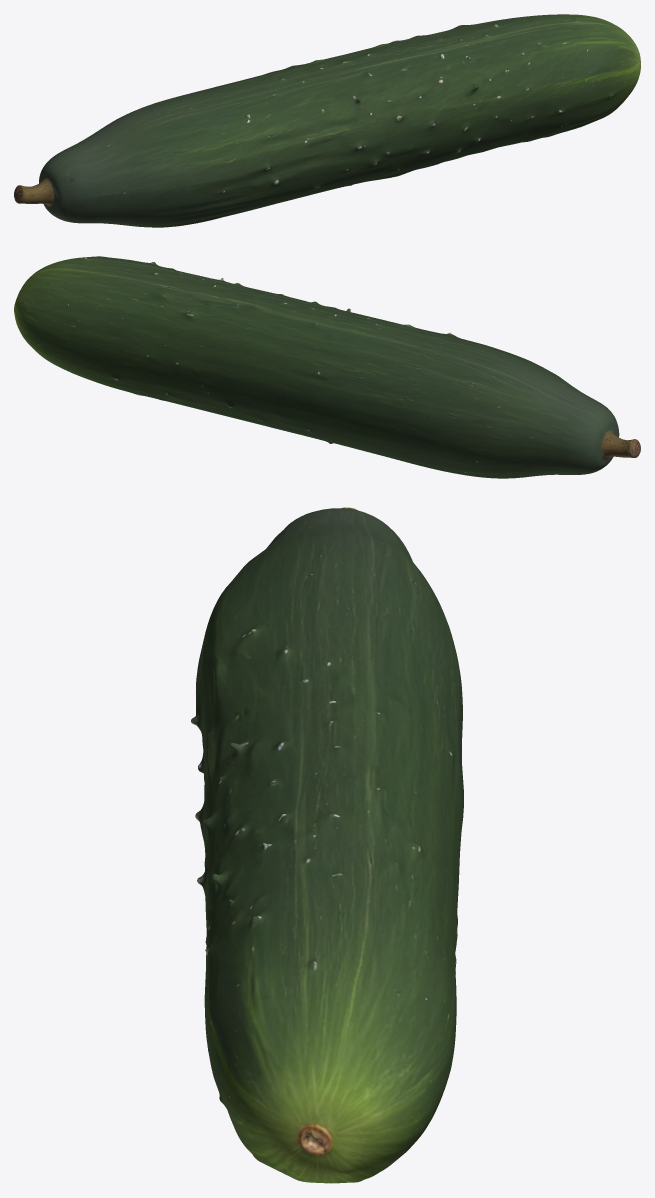
The model's file is zucchini.glb.
3 views of the same model, one above another, from view 1: azimuth 30°, elevation 25°; view 2: azimuth 150°, elevation 25°; view 3: azimuth 270°, elevation 25° (orthographic). The views are drawn at different scales.
Visible parts, largest first — view 1: node_0; view 2: node_0; view 3: node_0.
Boxes of the visible parts, bbox=[...] form: node_0: bbox=[14, 14, 640, 227]; node_0: bbox=[14, 256, 640, 478]; node_0: bbox=[191, 507, 463, 1183].
Bounding box in the file's own units: 1.2 × 0.2255 × 0.2309.
1 material, 1 textured.
